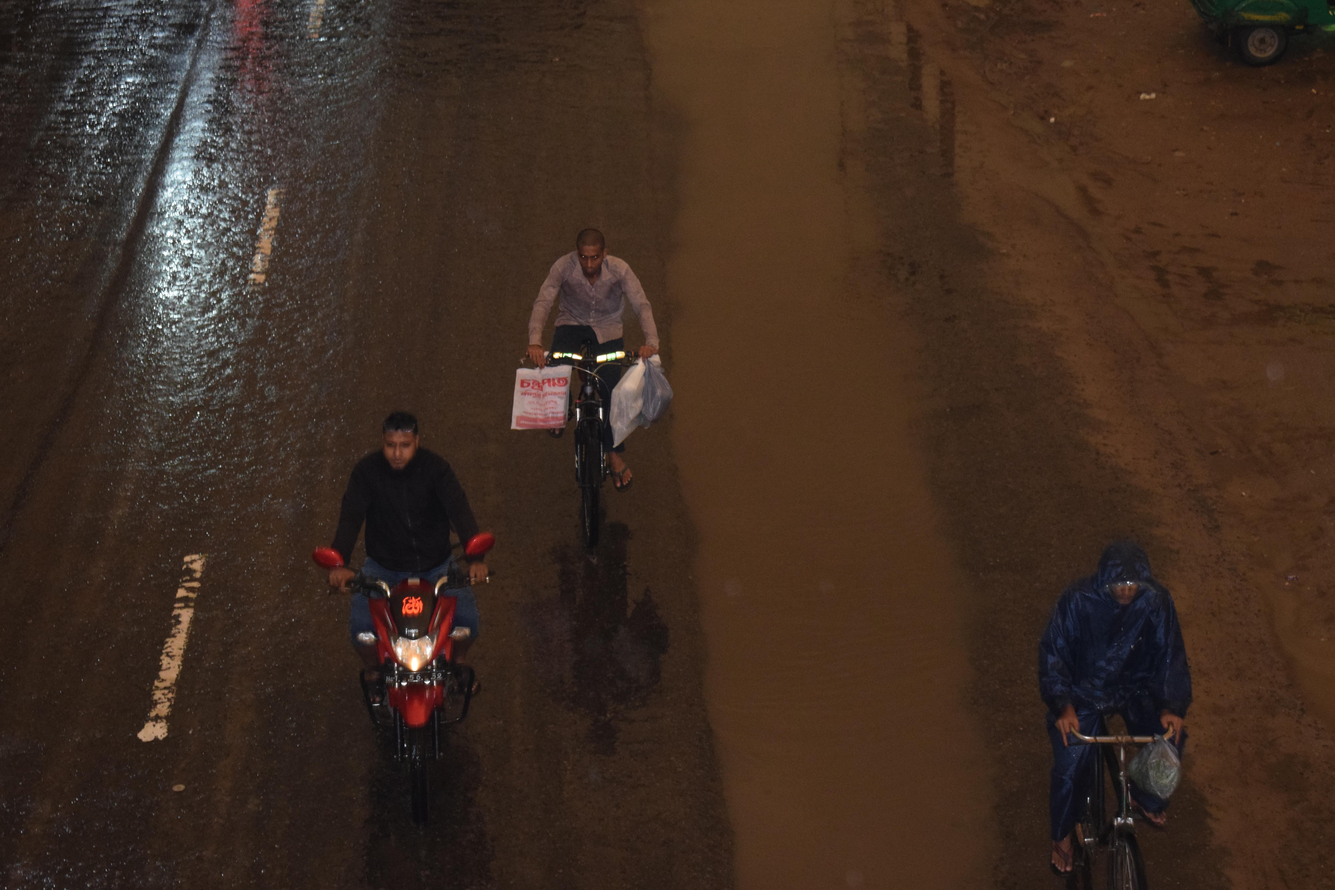Bike: (266, 359, 517, 857)
